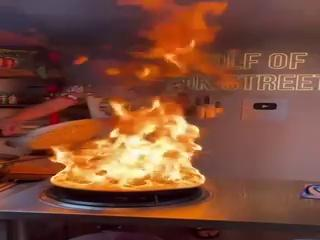Fire: (40, 48, 219, 192)
